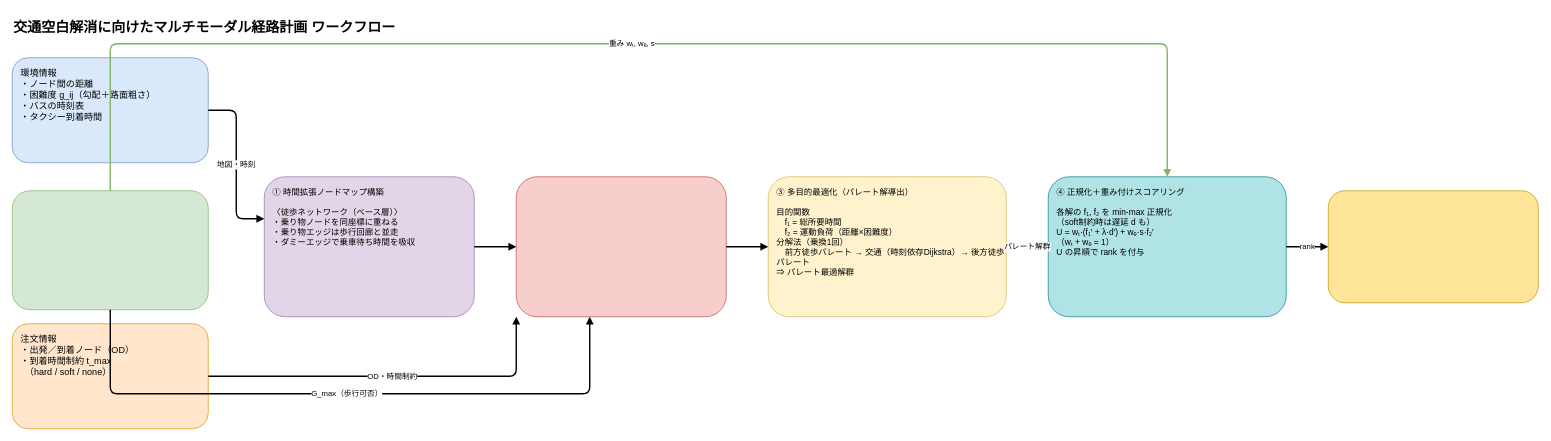
Image size: 1551x441. Some labels were removed from this diagram. Here are the shapes that lost their labels. From the top down, the centre of each, then its label:
the point at 110,250: 個人情報 ・歩行速度 v ・歩行能力の限界 G_max ・到着重視度 wₜ ・歩行意欲 wₑ ・評価方向 s（+1=負荷回避 / −1=運動量確保）
the point at 621,246: ② 制約の適用 ・歩行可能制約 g_ij > G_max のエッジを削除 ・到着時間制約 t_d ≤ t_max（hard/soft/none）
the point at 1433,246: ⑤ 推奨経路の提示 rank 1 の解を推奨 利用者ごとに最適化
